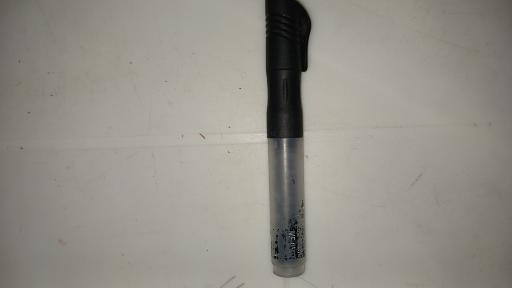Whiteboard marker: (267, 0, 313, 279)
